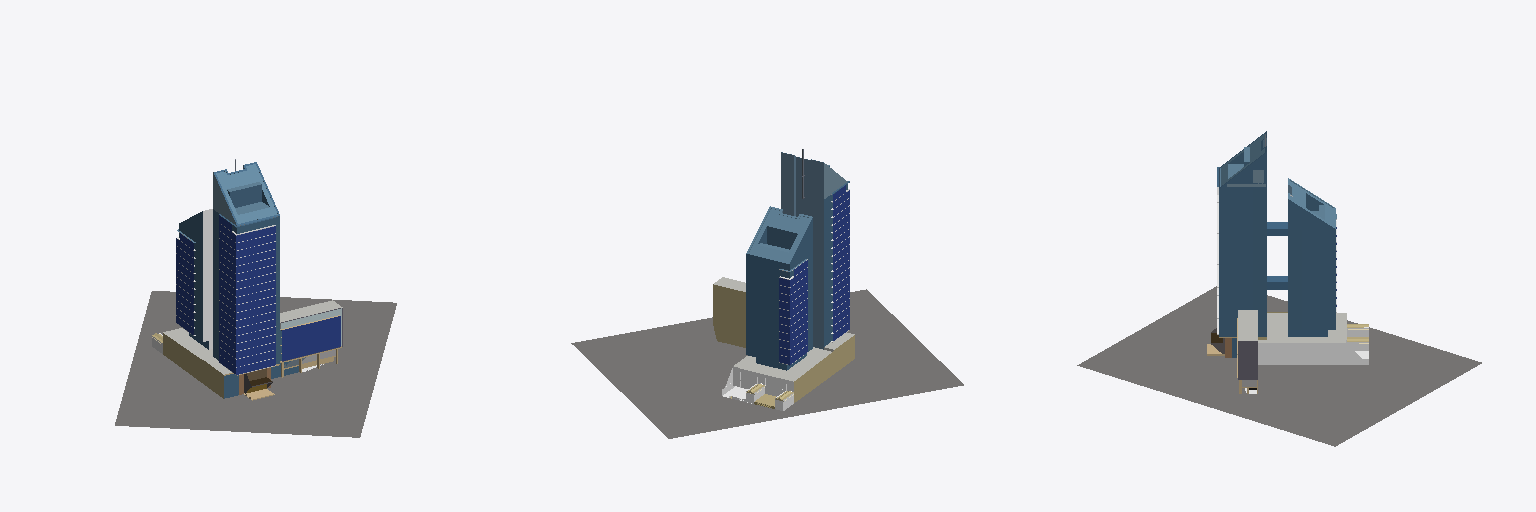
File: torres.obj
The picture shows the model from 3 angles: view 1: azimuth 30°, elevation 25°; view 2: azimuth 150°, elevation 25°; view 3: azimuth 270°, elevation 25°; orthographic projection.
Visible parts, largest first — view 1: Mesh7 Model, Mesh3 Google_Earth_Snapshot Model; view 2: Mesh7 Model, Mesh3 Google_Earth_Snapshot Model; view 3: Mesh3 Google_Earth_Snapshot Model, Mesh7 Model.
Boxes of the visible parts, <box> form: Mesh7 Model: <box>152,159,342,400</box>; Mesh3 Google_Earth_Snapshot Model: <box>115,291,396,437</box>; Mesh7 Model: <box>713,149,854,410</box>; Mesh3 Google_Earth_Snapshot Model: <box>571,289,963,438</box>; Mesh3 Google_Earth_Snapshot Model: <box>1077,286,1481,446</box>; Mesh7 Model: <box>1207,131,1368,393</box>.
Size of the model in its own units: 164 by 101 by 171.